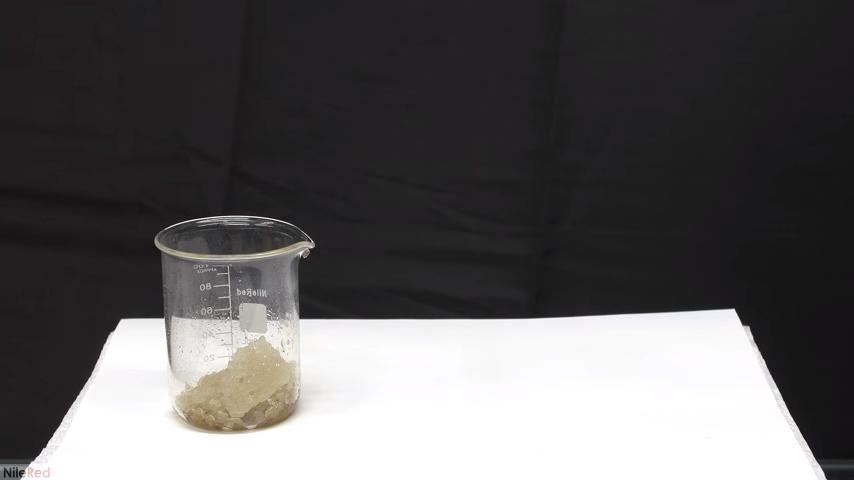Beaker: (148, 220, 324, 435)
